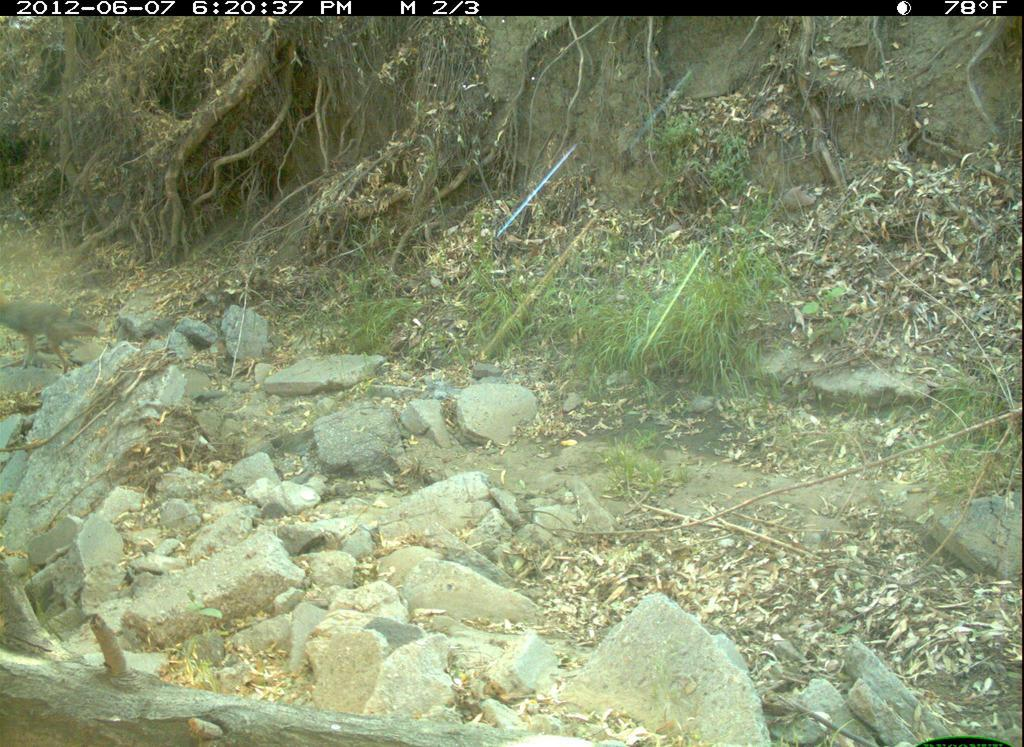coyote: (3, 289, 105, 376)
